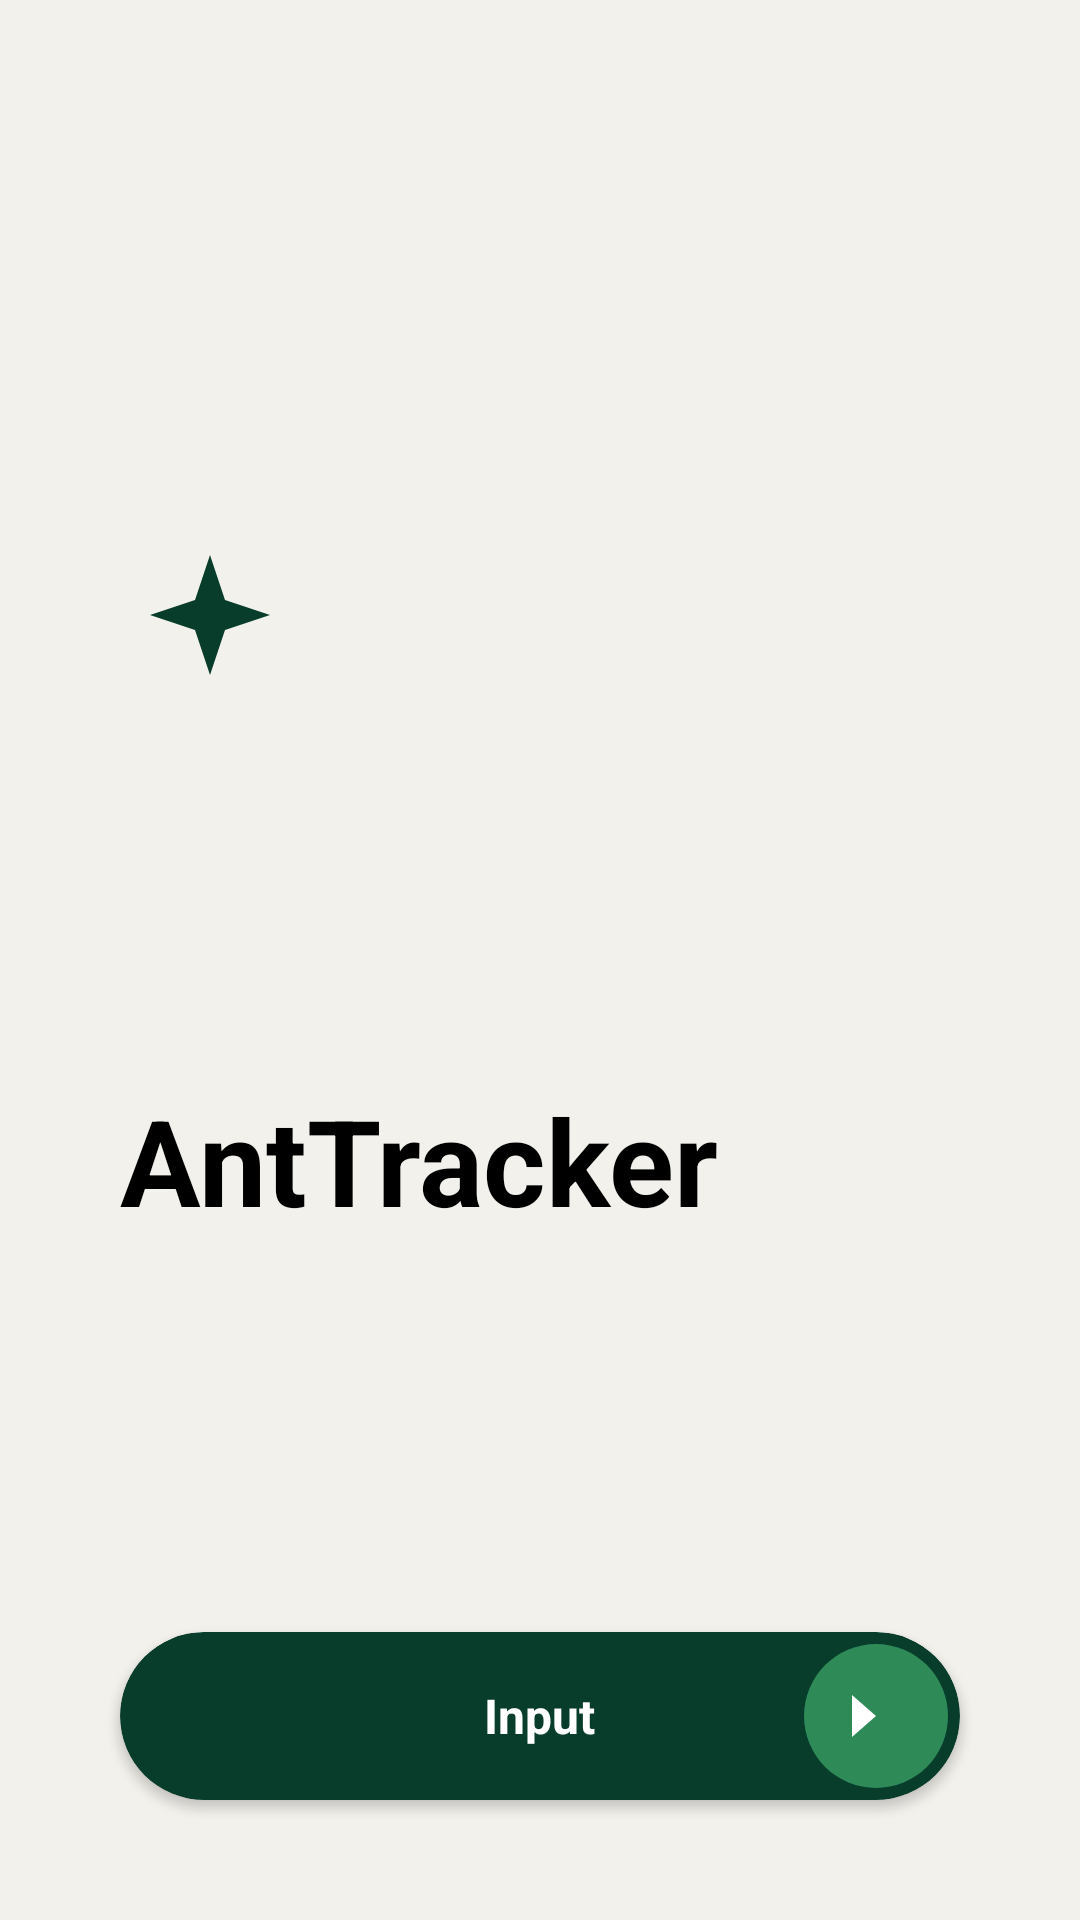

Icon bounding boxes for this 1080px×1920px phone screenshot, format bbox=(x1, y1, x2, y2):
arrow right: bbox=(852, 1695, 876, 1737)
stars: bbox=(150, 555, 270, 675)
